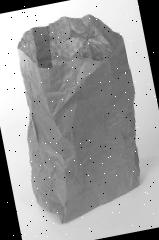paper: (0, 5, 158, 227)
